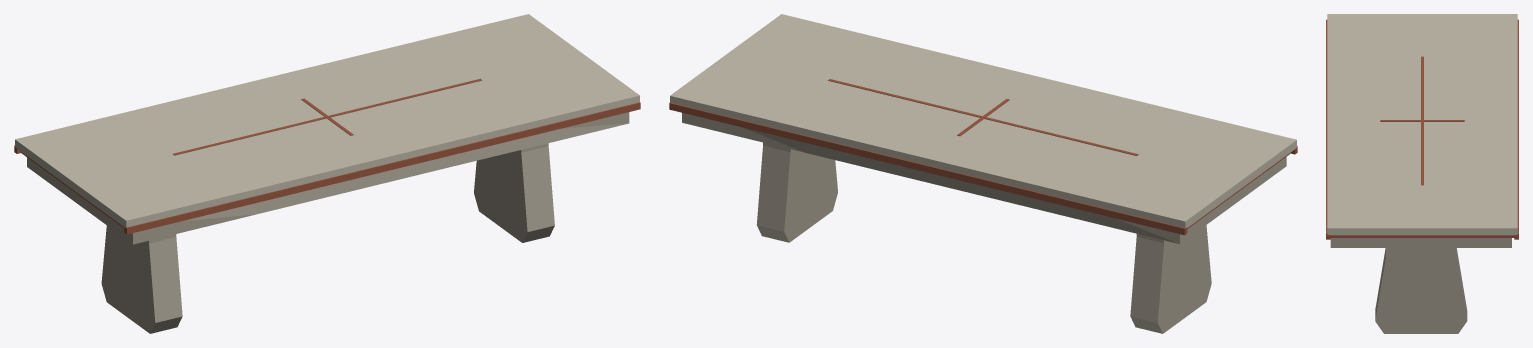
Rendered from Theodosian_Table_1.glb.
The picture shows the model from 3 angles, left to right: view 1: azimuth 30°, elevation 25°; view 2: azimuth 150°, elevation 25°; view 3: azimuth 270°, elevation 25°; orthographic projection. The views are drawn at different scales.
Parts seen in each view (by area): view 1: Theodosian_Table_1; view 2: Theodosian_Table_1; view 3: Theodosian_Table_1.
Part boxes in pixels (<box>): Theodosian_Table_1: <box>14,14,640,333</box>; Theodosian_Table_1: <box>669,14,1297,333</box>; Theodosian_Table_1: <box>1326,14,1518,333</box>.
Bounding box in the file's own units: 7.78 × 2.2 × 2.96.
